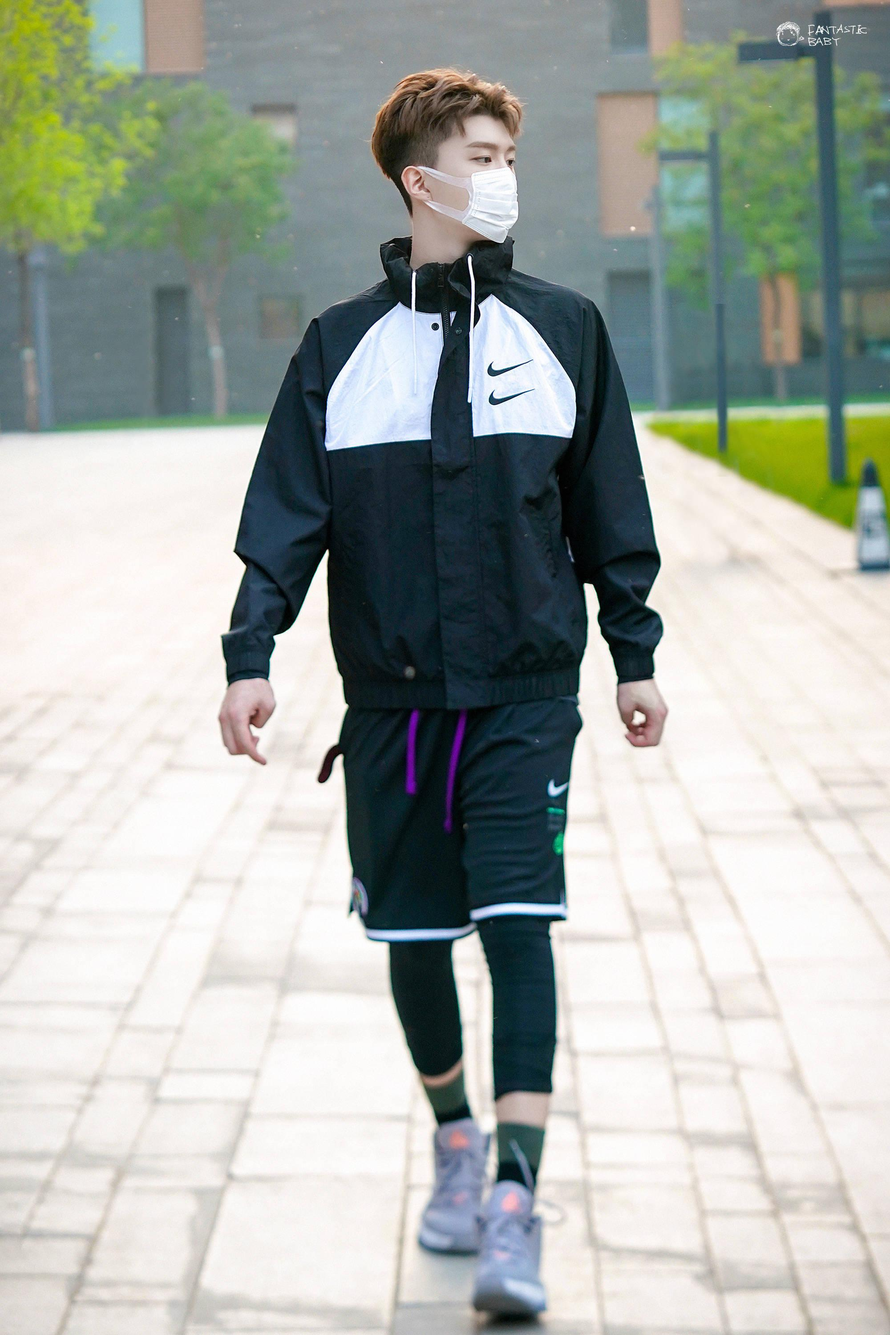OK: (449, 130, 522, 246)
